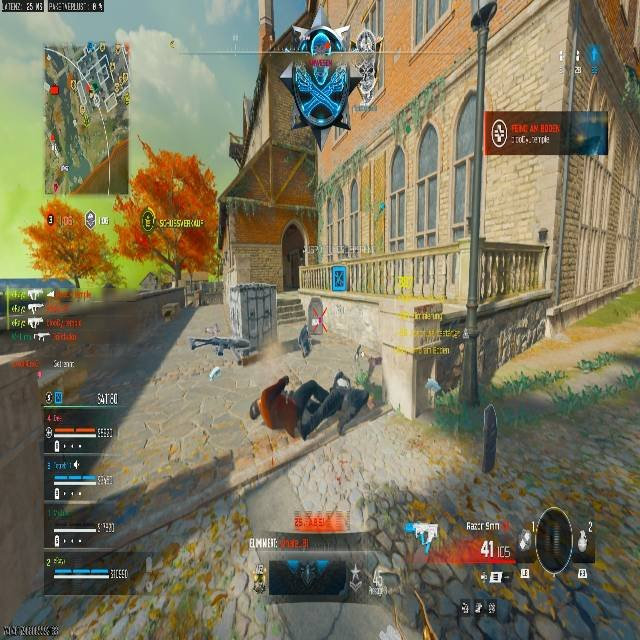head: (255, 382, 297, 430)
player: (251, 369, 385, 442), (298, 323, 312, 357)
